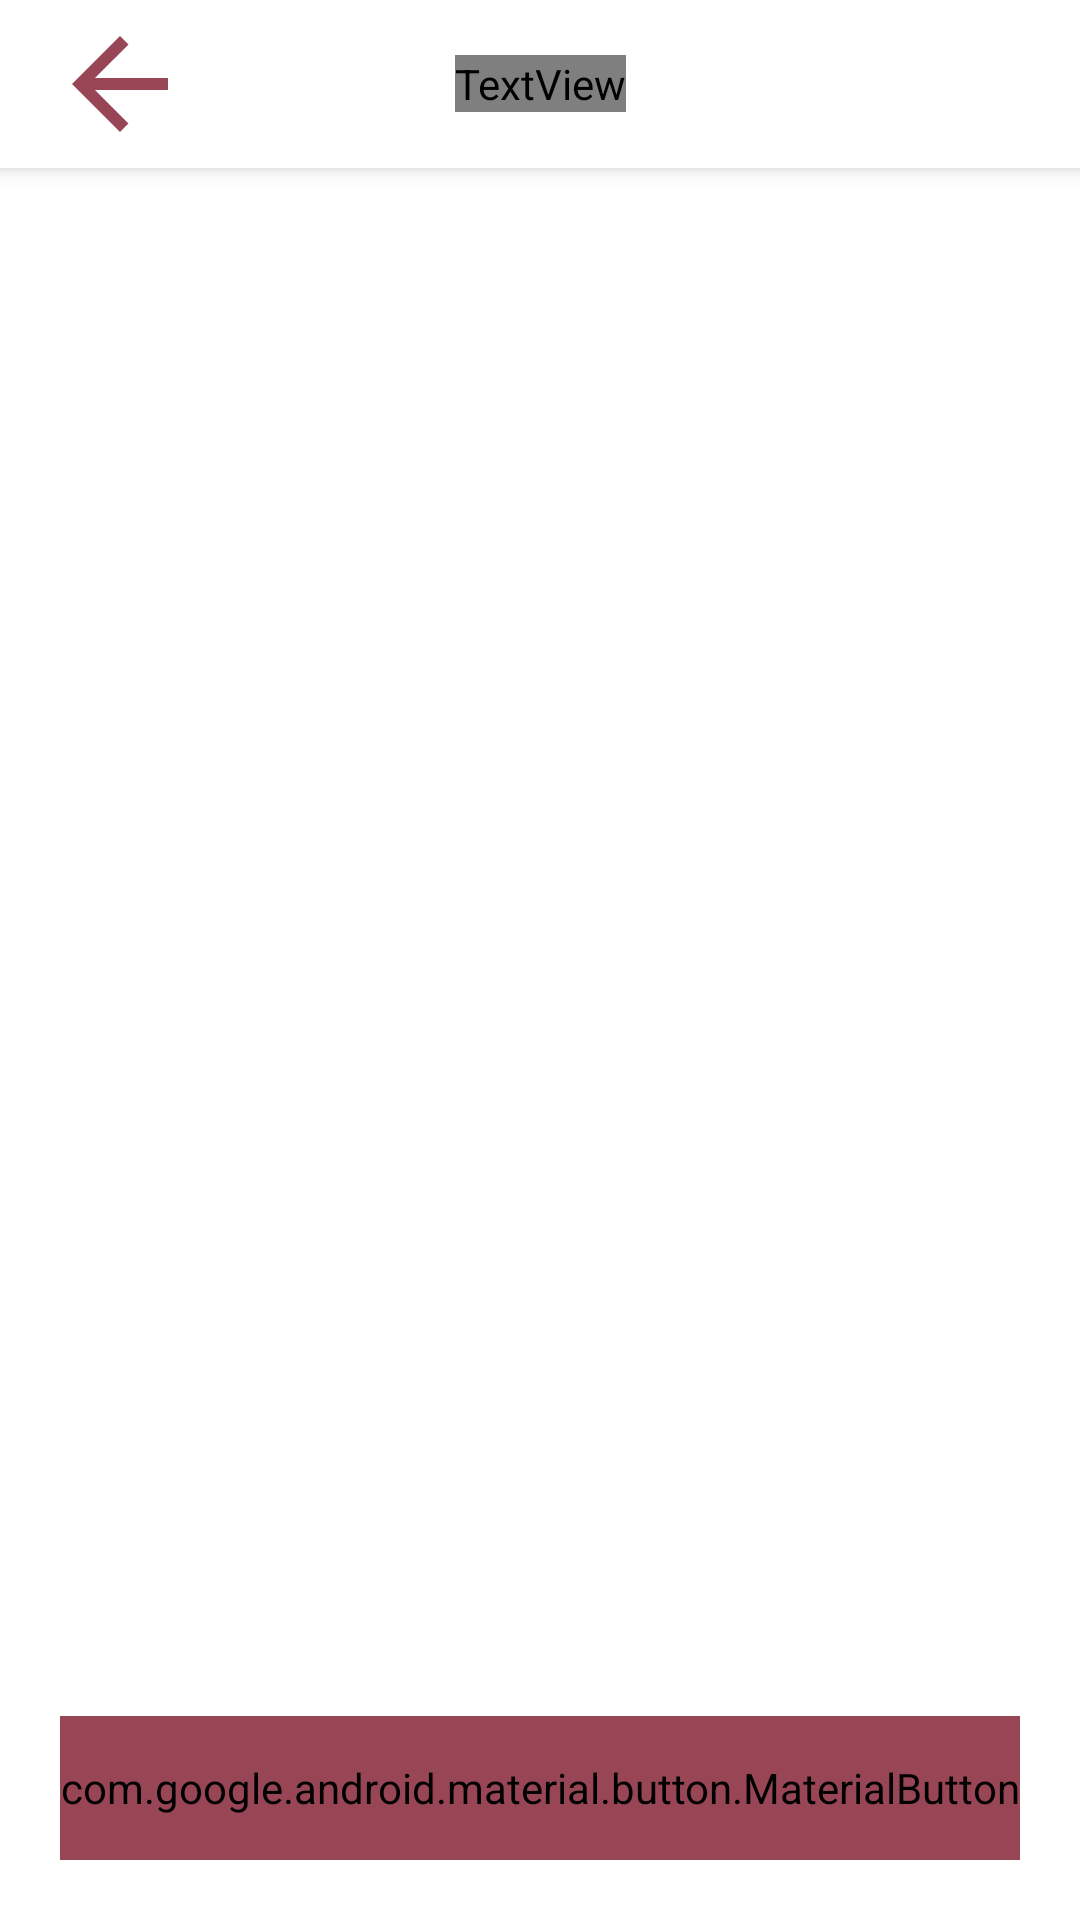

Icon bounding boxes for this 1080px×1920px phone screenshot, format (x1, y1, x2, y2):
arrow back: (72, 36, 168, 132)
